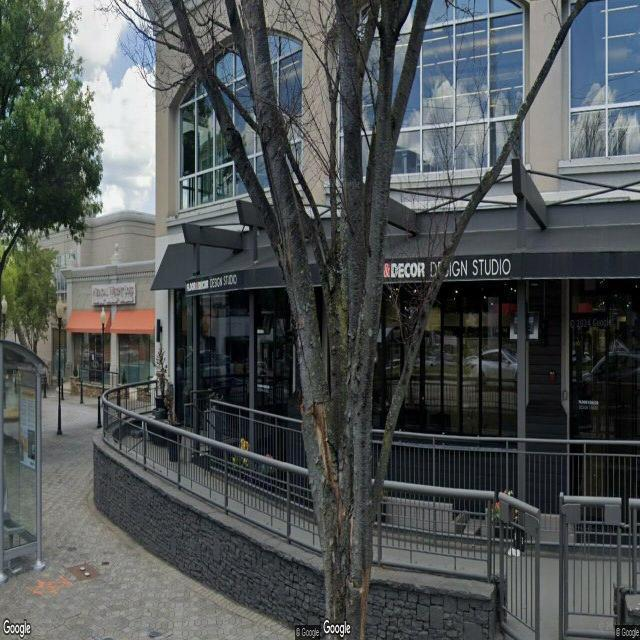seating: (1, 512, 23, 572)
shelter: (0, 341, 48, 579)
